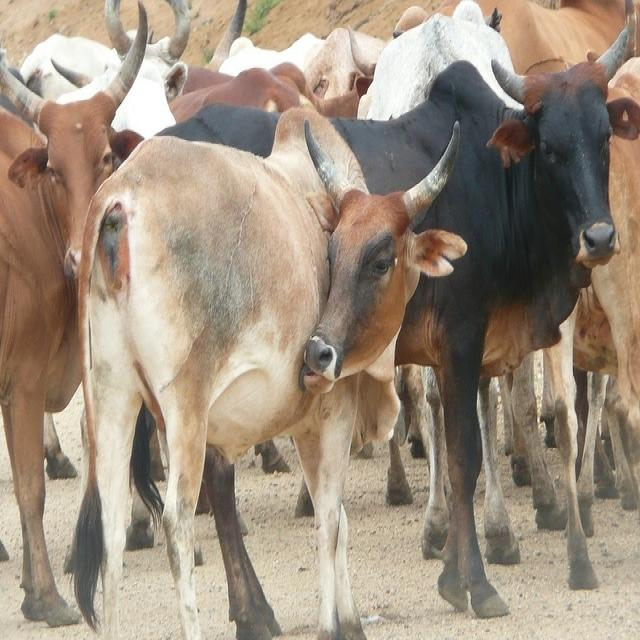cow: (66, 104, 468, 640)
